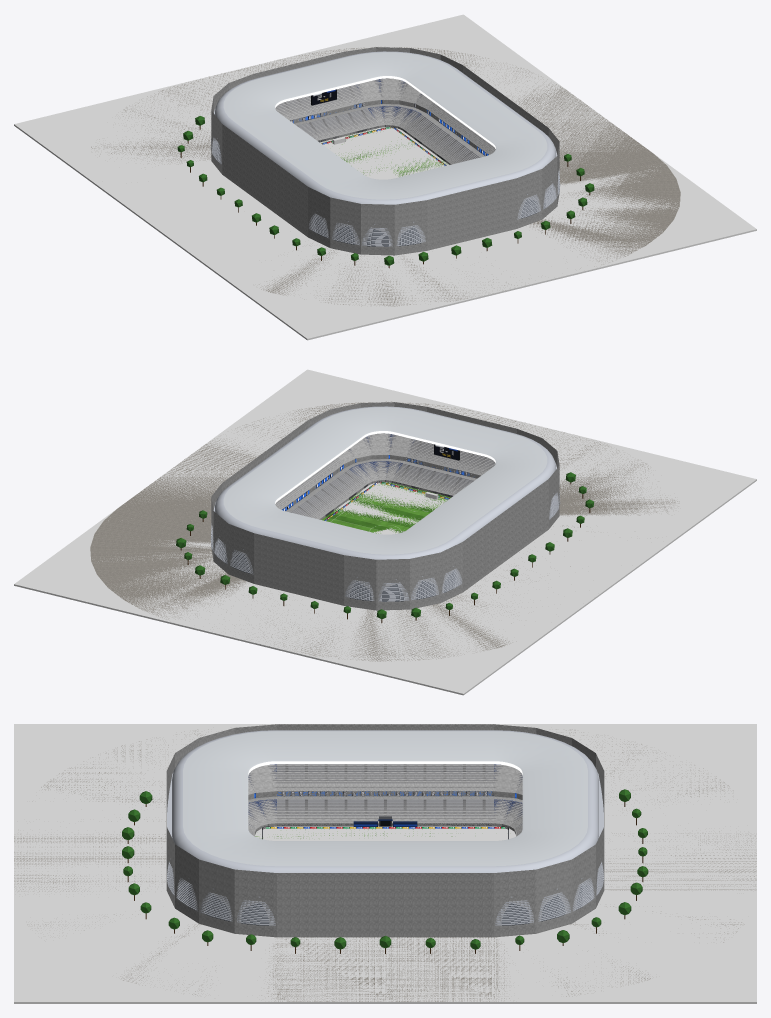
Rendered from stadium.glb.
The picture shows the model from 3 angles, top to bottom: view 1: azimuth 30°, elevation 25°; view 2: azimuth 150°, elevation 25°; view 3: azimuth 270°, elevation 25°; orthographic projection. The views are drawn at different scales.
Parts seen in each view (by area): view 1: COL_Ground, Facade_Roof, COL_Facade, Plaza, COL_Stands, Stand_Lower, Trees, Stand_Upper; view 2: COL_Ground, Facade_Roof, Plaza, COL_Facade, COL_Stands, Stand_Lower, Pitch, Trees, Stand_Upper; view 3: COL_Ground, Facade_Roof, COL_Facade, COL_Stands, Plaza, Stand_Lower, Stand_Upper, Trees, AdBoards.
Boxes of the visible parts, box(x1,y1,x2,y2) form: COL_Ground: box(14, 14, 756, 340); Facade_Roof: box(210, 51, 560, 246); COL_Facade: box(211, 47, 559, 255); Plaza: box(91, 47, 680, 306); COL_Stands: box(275, 78, 495, 164); Stand_Lower: box(294, 104, 480, 163); Trees: box(177, 116, 594, 268); Stand_Upper: box(275, 78, 494, 155); COL_Ground: box(14, 369, 756, 695); Facade_Roof: box(210, 406, 560, 601); Plaza: box(90, 401, 679, 661); COL_Facade: box(211, 402, 559, 610); COL_Stands: box(275, 433, 495, 519); Stand_Lower: box(290, 459, 476, 518); Pitch: box(322, 482, 450, 533); Trees: box(176, 472, 594, 623); Stand_Upper: box(276, 433, 495, 510); COL_Ground: box(14, 724, 756, 1003); Facade_Roof: box(167, 730, 603, 925); COL_Facade: box(166, 724, 604, 937); COL_Stands: box(248, 765, 522, 836); Plaza: box(14, 724, 756, 1001); Stand_Lower: box(248, 796, 522, 835); Stand_Upper: box(248, 764, 522, 798); Trees: box(122, 789, 648, 953); AdBoards: box(262, 826, 508, 839).
Size of the model in its own units: 300 by 33.32 by 339.
Materials: 23 (11 with a texture image).
